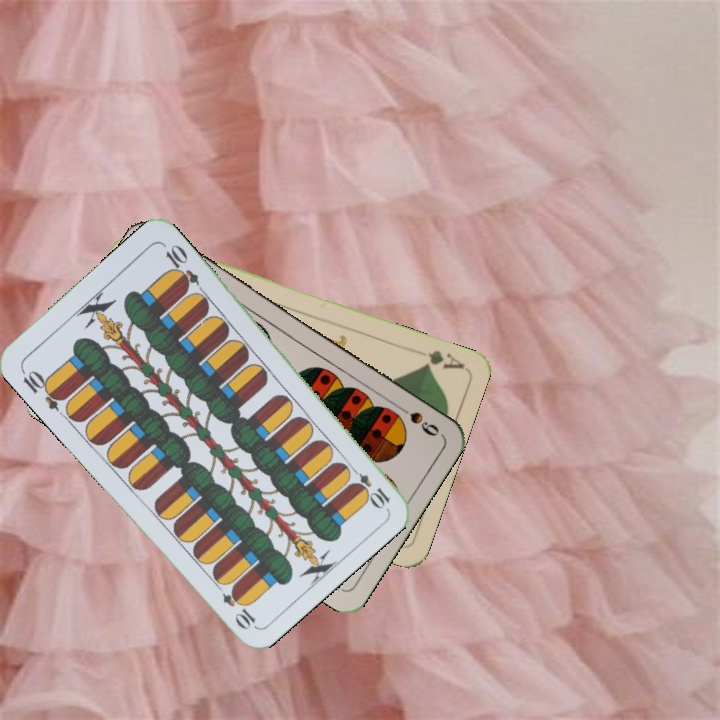E10: (344, 461, 393, 511), (17, 365, 68, 413)
GA: (418, 346, 466, 372)
S9: (390, 399, 442, 440)
